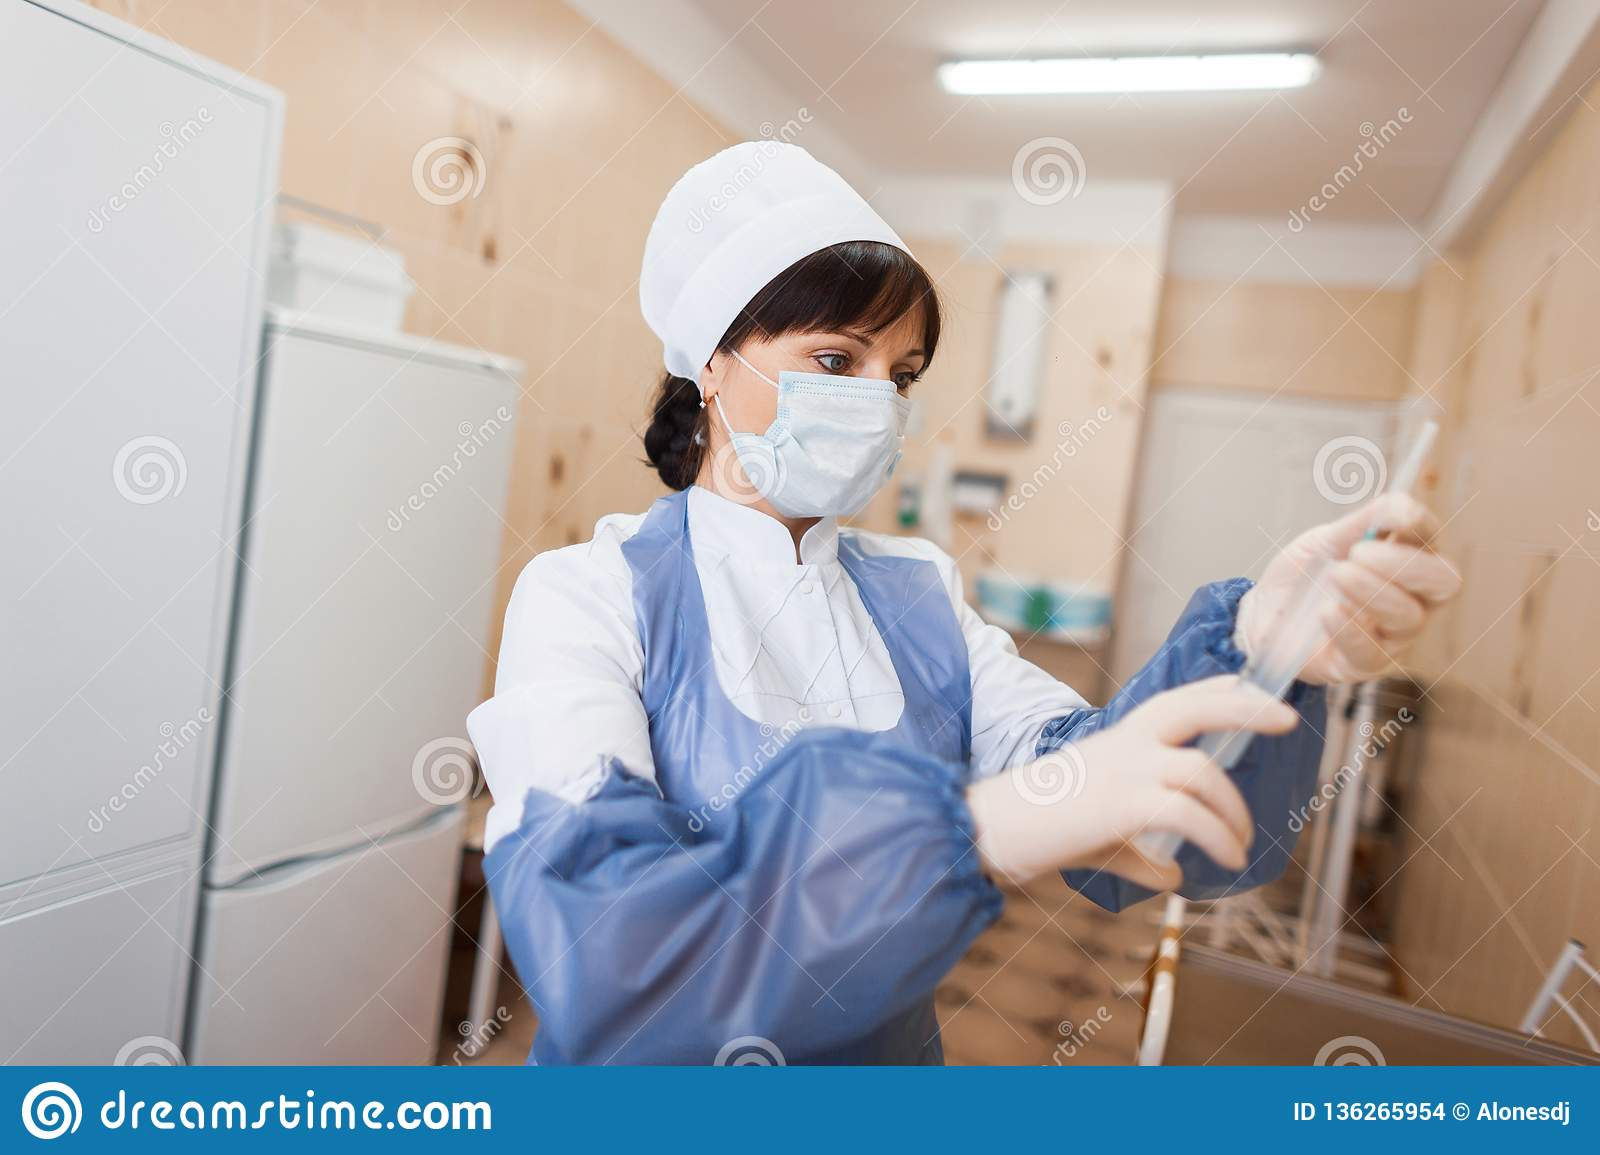mask: (735, 375, 908, 522)
